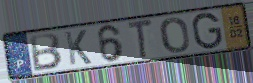6: (96, 23, 126, 64)
B: (28, 32, 63, 73)
G: (190, 11, 225, 51)
K: (63, 28, 94, 67)
O: (159, 16, 192, 55)
T: (126, 18, 155, 61)
